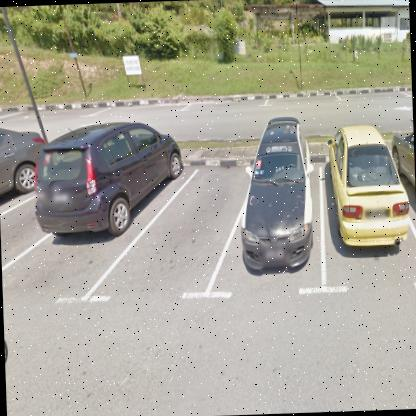Car: (18, 116, 182, 257), (234, 92, 320, 299), (327, 112, 416, 263), (0, 100, 43, 193)
Empty: (136, 167, 249, 298)
